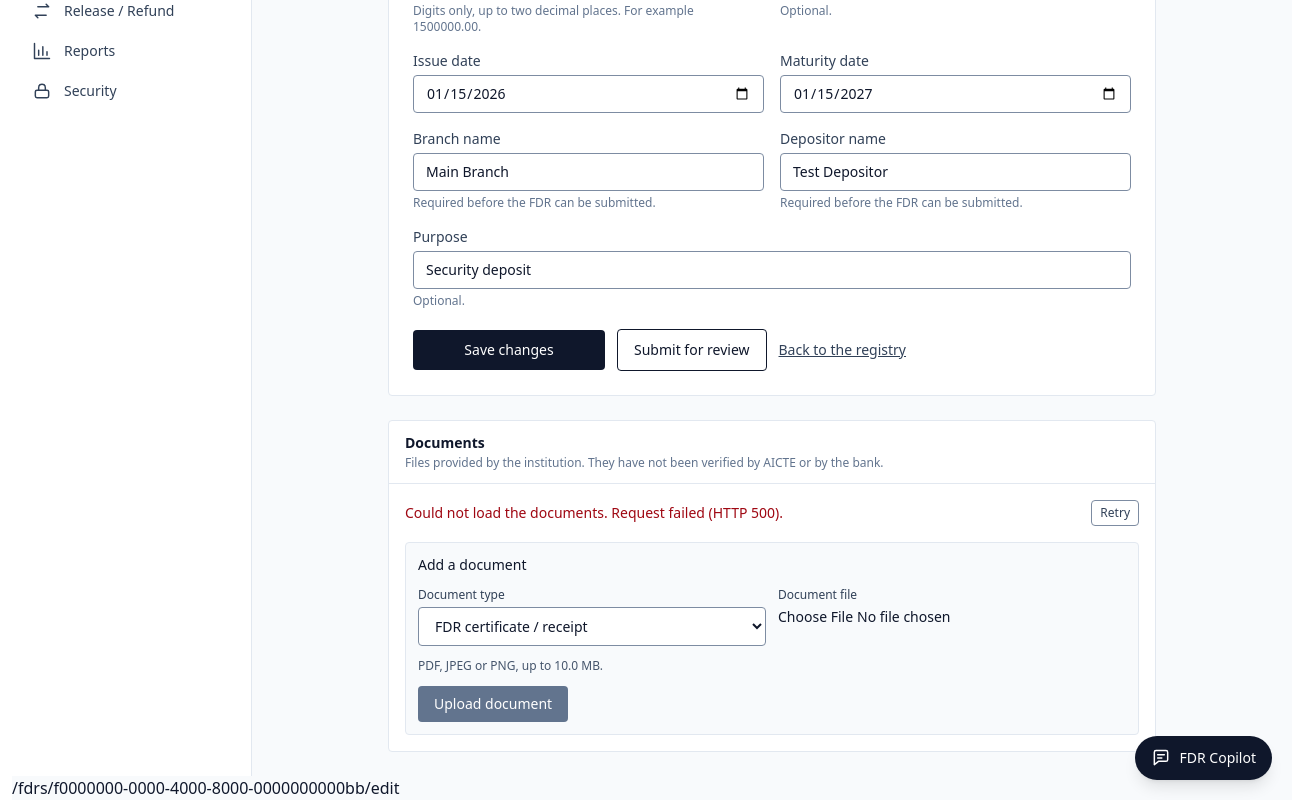
it: listing › shows a load failure as an error with a retry, never as an empty list
(page scrolled)
Check: the heading "Documents" is shown, box [405,433,485,452]
Check: the text "Could not load the documents. Request failed (HTTP 500)." is shown, box [405,503,783,523]
Click the button "Retry": (1115,513) [1091,500,1139,526]
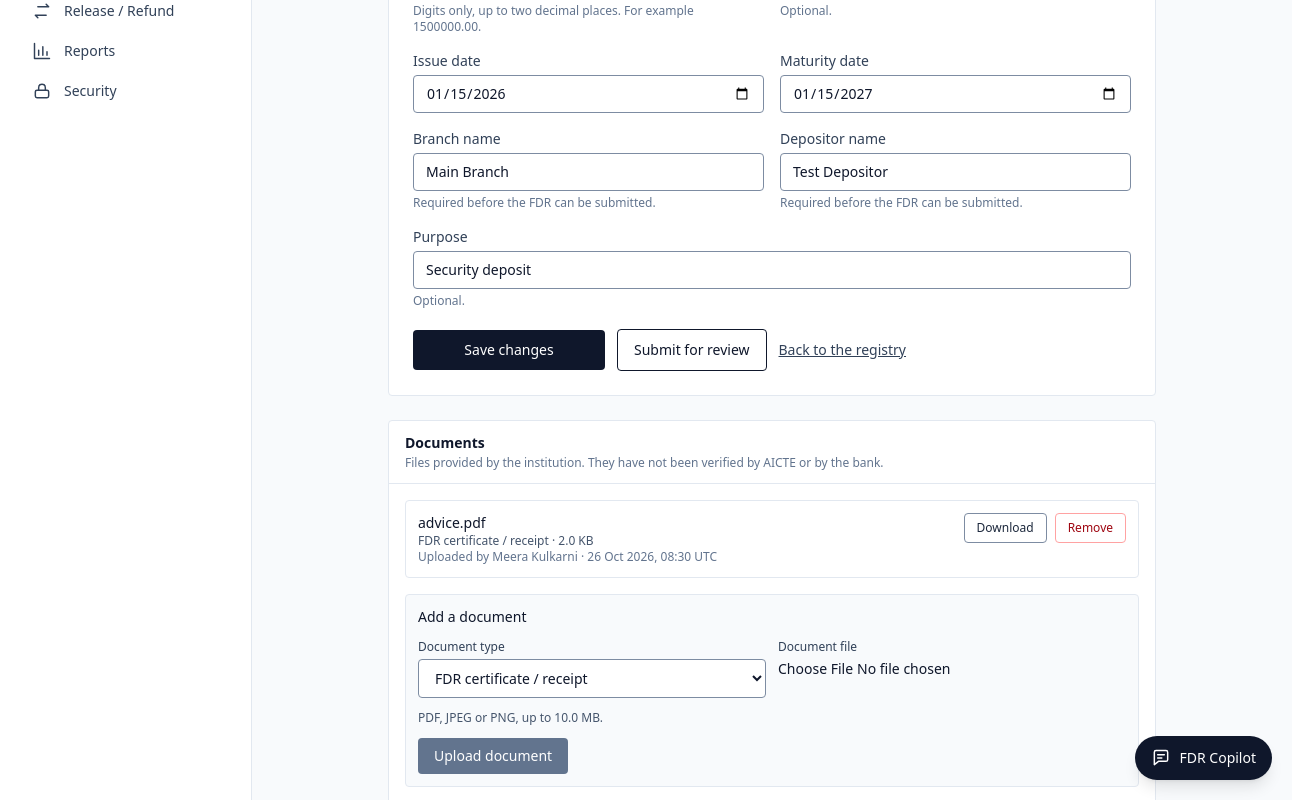
Check: the text "advice.pdf" is shown, box [418,513,486,532]
